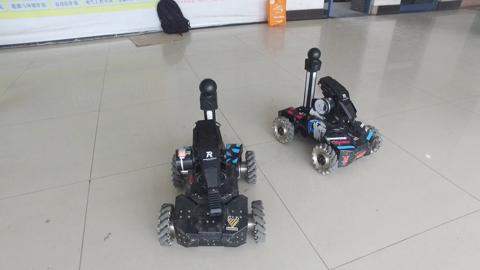chariot: (154, 75, 269, 252), (272, 44, 388, 178)
